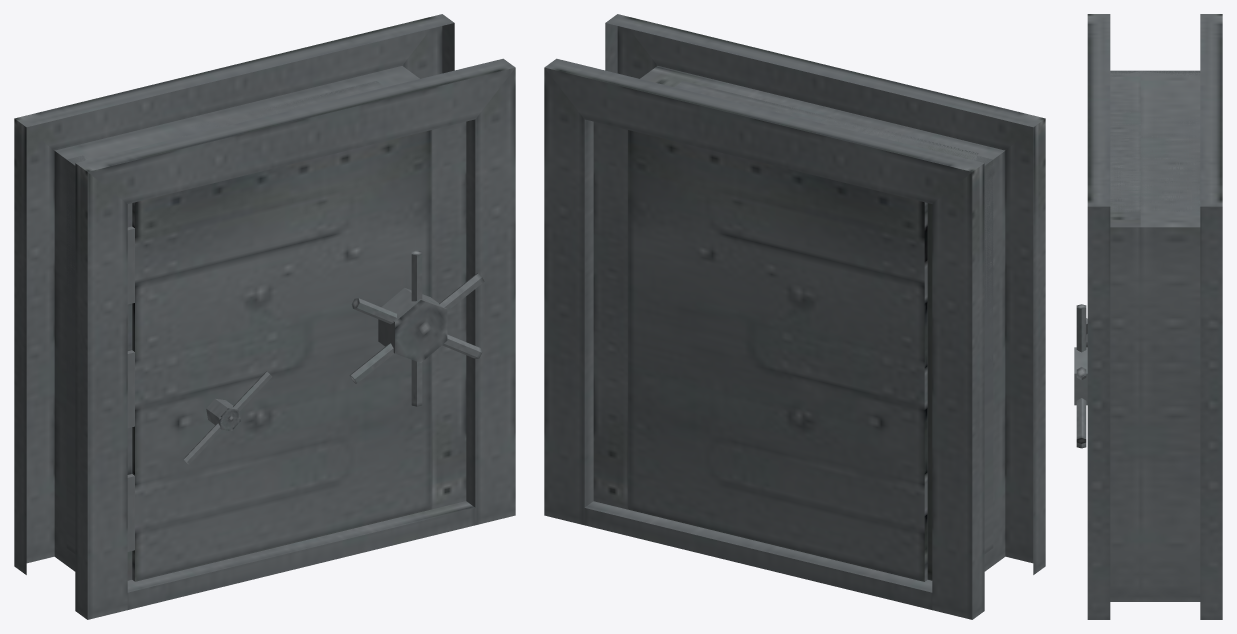
File: mVaultDoor01.obj
3 views of the same model, side by side, from view 1: azimuth 30°, elevation 25°; view 2: azimuth 150°, elevation 25°; view 3: azimuth 270°, elevation 25° (orthographic). The views are drawn at different scales.
Visible parts, largest first — view 1: mVaultDoor01Frame, mVaultDoor01Door, Lock02, Lock01; view 2: mVaultDoor01Frame, mVaultDoor01Door; view 3: mVaultDoor01Frame, mVaultDoor01Door, Lock02.
Boxes of the visible parts, x1=… form: mVaultDoor01Frame: x1=14, y1=14, x2=515, y2=619; mVaultDoor01Door: x1=127, y1=81, x2=431, y2=581; Lock02: x1=349, y1=250, x2=484, y2=406; Lock01: x1=183, y1=371, x2=272, y2=464; mVaultDoor01Frame: x1=544, y1=14, x2=1045, y2=619; mVaultDoor01Door: x1=628, y1=81, x2=978, y2=581; mVaultDoor01Frame: x1=1087, y1=14, x2=1222, y2=619; mVaultDoor01Door: x1=1110, y1=110, x2=1200, y2=211; Lock02: x1=1074, y1=304, x2=1087, y2=448.
Size of the model in its own units: 3.04 by 3.04 by 0.991.
